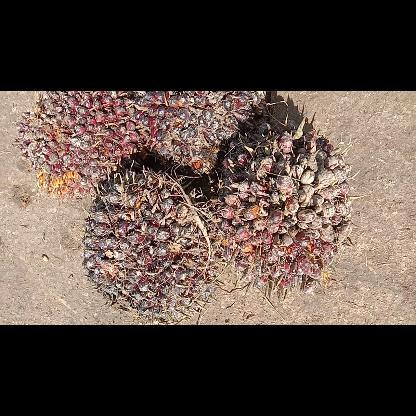Kurang masak: (213, 116, 363, 296), (82, 166, 220, 324), (14, 91, 150, 199), (141, 90, 273, 178)
